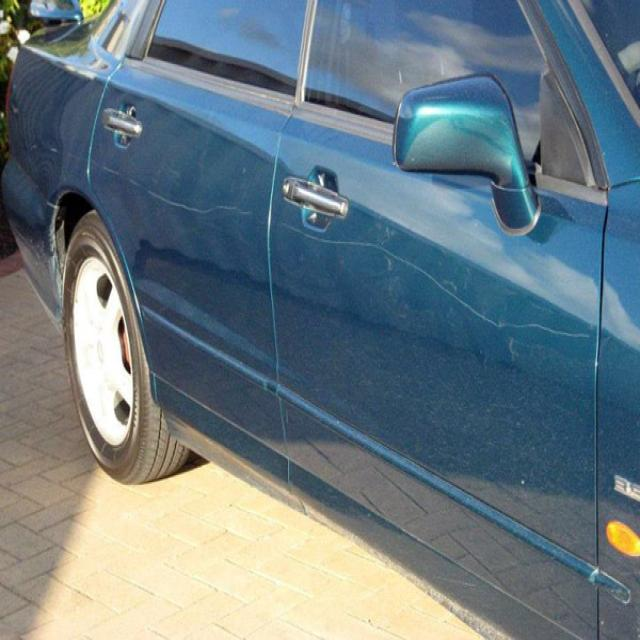paint-trace: (272, 213, 595, 353), (5, 127, 257, 228)
